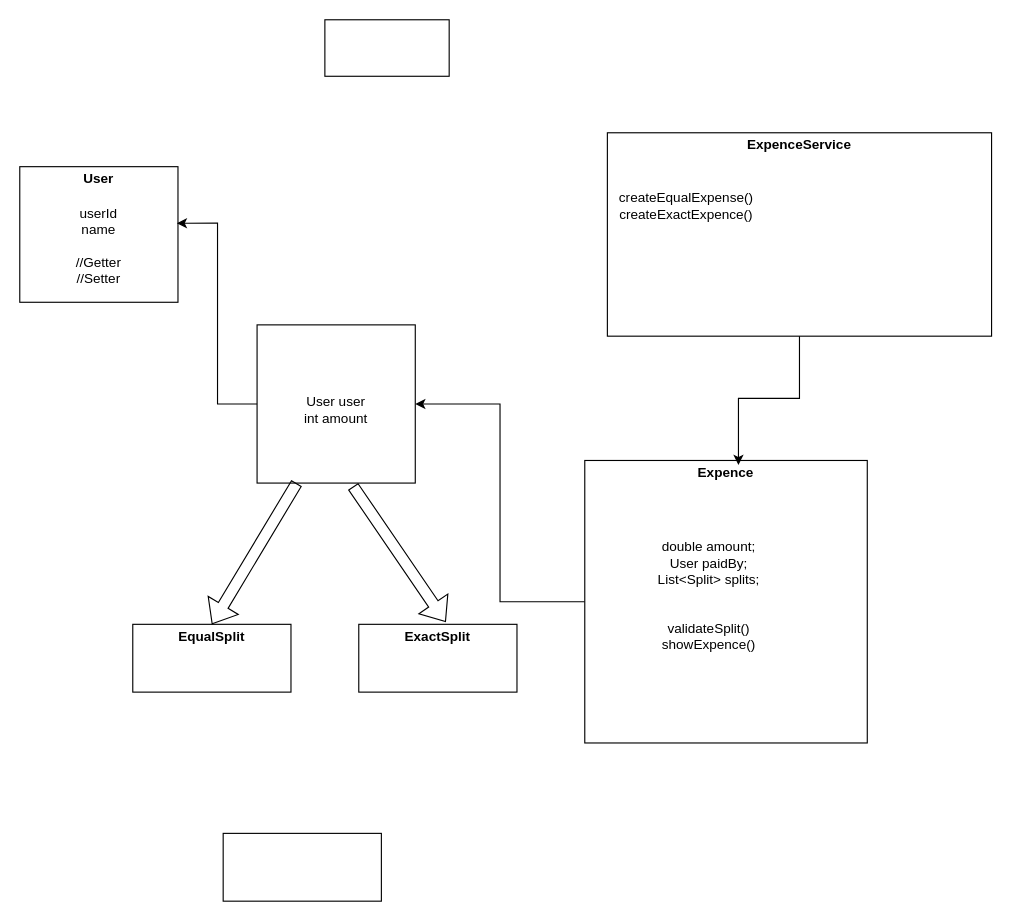
Image size: 1011x921. Some labels were removed from this diagram. The shapes that lost their labels are listed below. From the top down, each one's box as (x1, y1, x2, y2) in pixels, then its label:
(324, 19, 449, 76): Splitwise
(256, 324, 415, 483): Split
(222, 832, 381, 901): Main
